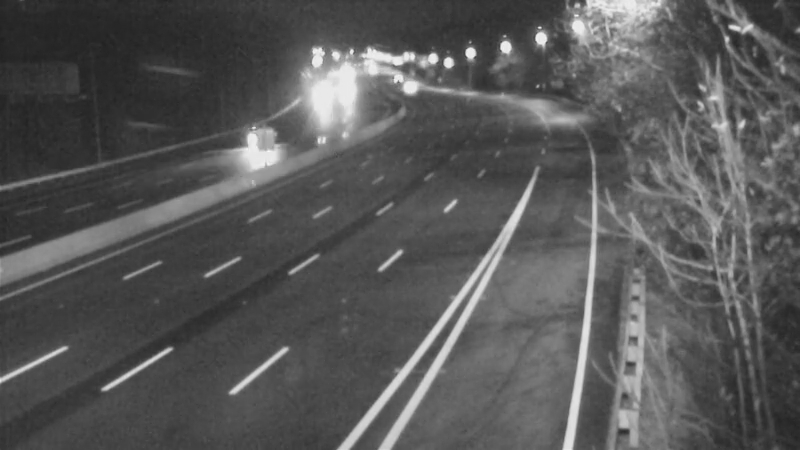vehicle: (382, 62, 432, 112), (230, 112, 280, 162), (294, 68, 344, 118), (324, 66, 374, 116)
